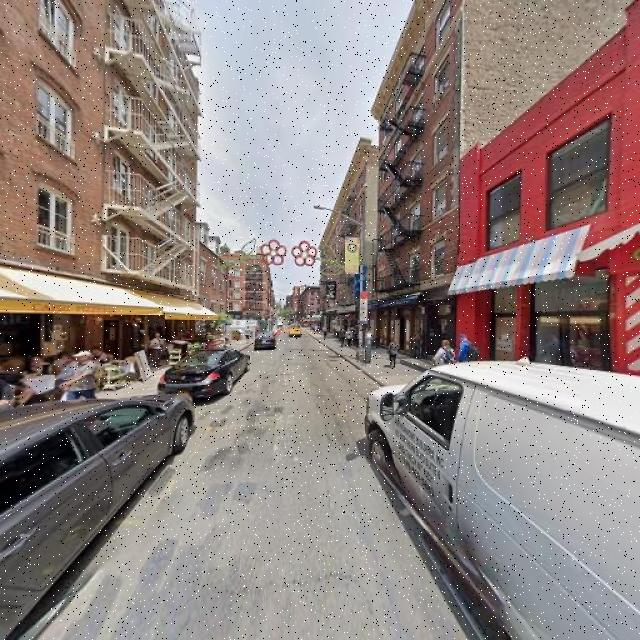Building: (1, 1, 195, 395), (460, 19, 640, 427), (380, 1, 457, 369)
